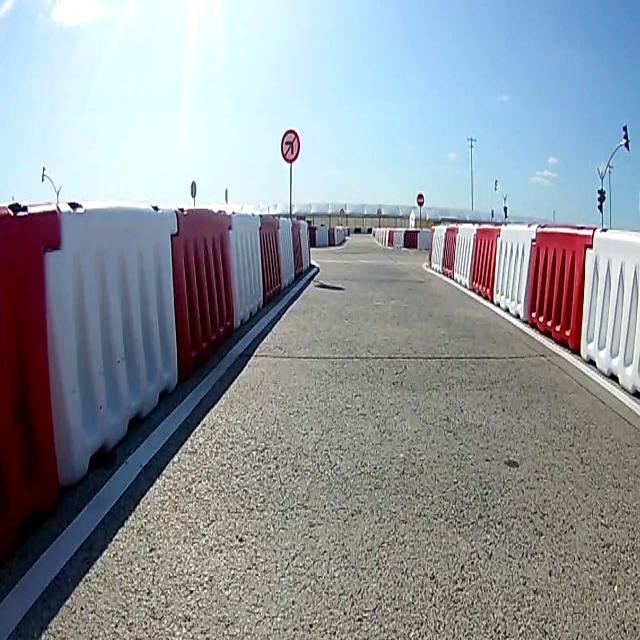girisyok: (416, 192, 425, 206)
soladonulmez: (280, 129, 300, 163)
